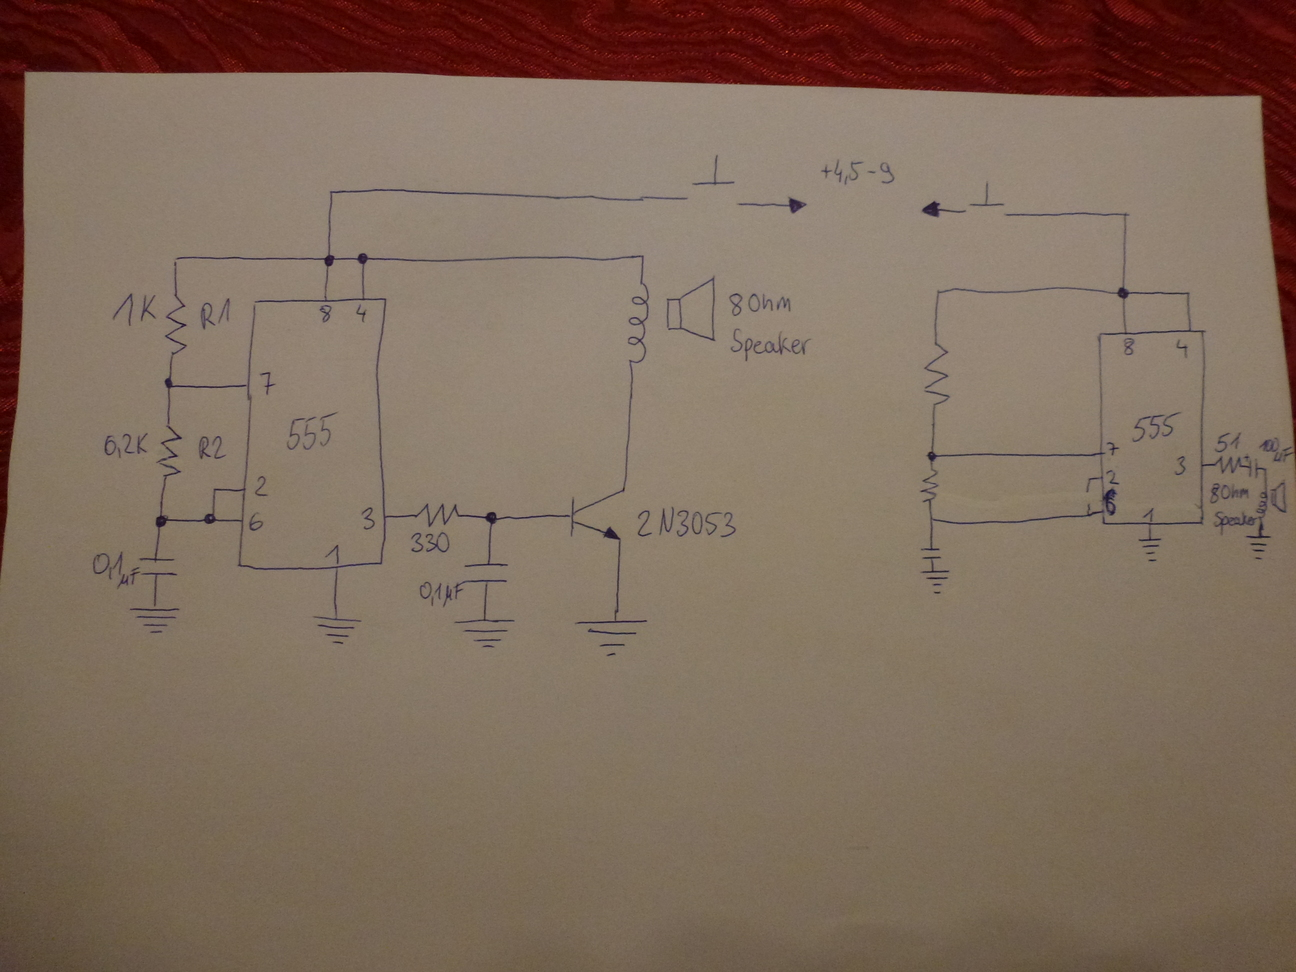capacitor.polarized: (1243, 454, 1261, 480)
capacitor.unpolarized: (461, 561, 511, 587), (135, 555, 181, 579), (918, 545, 944, 562)
gnd: (574, 610, 652, 660), (453, 615, 515, 650), (127, 601, 181, 639), (309, 612, 364, 648), (919, 569, 951, 597), (1244, 533, 1273, 564), (1136, 537, 1163, 566)
integrated_circuit: (238, 294, 393, 583), (1097, 326, 1210, 527)
junction: (482, 508, 502, 526), (160, 375, 178, 393), (153, 512, 170, 530), (354, 250, 370, 268), (1115, 284, 1131, 302), (203, 511, 218, 527), (321, 252, 337, 268), (931, 285, 947, 299), (924, 448, 940, 463), (169, 254, 183, 266), (1119, 208, 1132, 221), (636, 248, 647, 261), (1181, 287, 1193, 298), (325, 185, 336, 197), (210, 484, 220, 495), (927, 514, 937, 524), (1085, 475, 1094, 483), (1085, 511, 1093, 520)
resistor: (919, 337, 954, 414), (160, 293, 189, 358), (154, 424, 183, 482), (414, 502, 462, 528), (918, 468, 941, 505), (1213, 456, 1243, 476)
speaker: (619, 275, 722, 367), (1256, 479, 1289, 521)
switch: (677, 152, 750, 212), (958, 179, 1014, 221)
text: (635, 504, 738, 542), (730, 328, 813, 359), (818, 155, 898, 188), (282, 410, 338, 453), (91, 550, 141, 589), (1130, 409, 1182, 445), (728, 289, 795, 315), (108, 292, 160, 326), (417, 578, 465, 609), (102, 430, 150, 458), (1211, 509, 1257, 538), (197, 297, 235, 331), (408, 530, 451, 554), (1208, 480, 1251, 504), (1258, 436, 1293, 464), (196, 433, 228, 460), (1213, 430, 1243, 454), (255, 367, 279, 397), (252, 473, 270, 499), (1172, 453, 1190, 479), (358, 505, 376, 531), (246, 511, 265, 533), (1173, 337, 1191, 360), (1103, 488, 1118, 516), (323, 542, 342, 565), (317, 303, 334, 325), (353, 303, 369, 324), (1104, 438, 1120, 456), (1103, 468, 1118, 485), (1121, 337, 1136, 355), (1142, 505, 1155, 525)
transistor: (563, 484, 628, 546)
vss: (784, 193, 810, 217), (919, 199, 943, 220)
